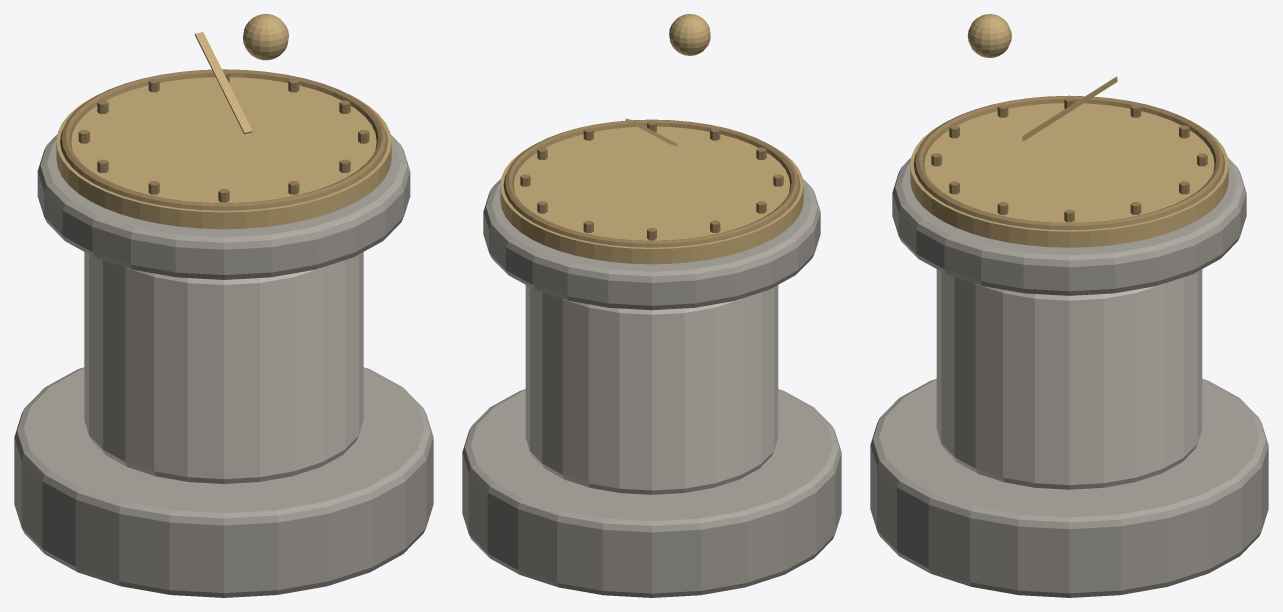
Rendered from sundial.glb.
The picture shows the model from 3 angles, left to right: view 1: azimuth 30°, elevation 25°; view 2: azimuth 150°, elevation 25°; view 3: azimuth 270°, elevation 25°; orthographic projection. The views are drawn at different scales.
Visible parts, largest first — view 1: sundial; view 2: sundial; view 3: sundial.
Part boxes in pixels (<box>): sundial: <box>14,14,433,597</box>; sundial: <box>462,14,841,597</box>; sundial: <box>870,14,1268,597</box>.
Size of the model in its own units: 0.9 by 1.25 by 0.9.
